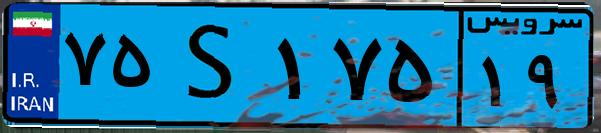1: (270, 28, 330, 110), (475, 38, 525, 113)
5: (385, 28, 445, 110), (110, 28, 158, 98)
7: (330, 28, 385, 110), (57, 26, 110, 100)
9: (525, 38, 570, 115)
S: (158, 12, 270, 120)
